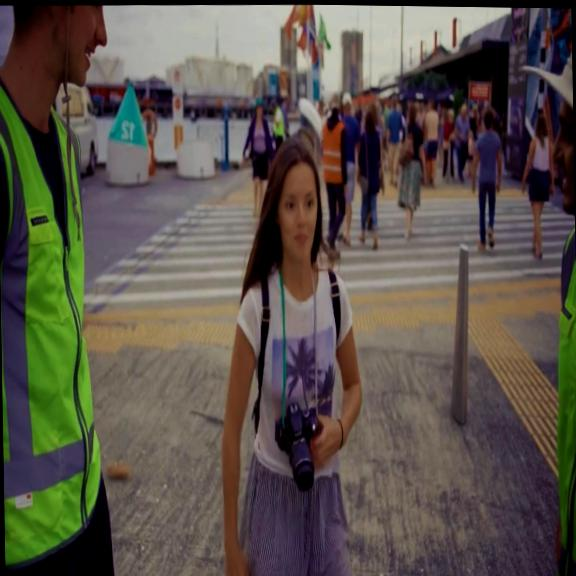safety_vest: (0, 59, 104, 574), (546, 219, 576, 576)
